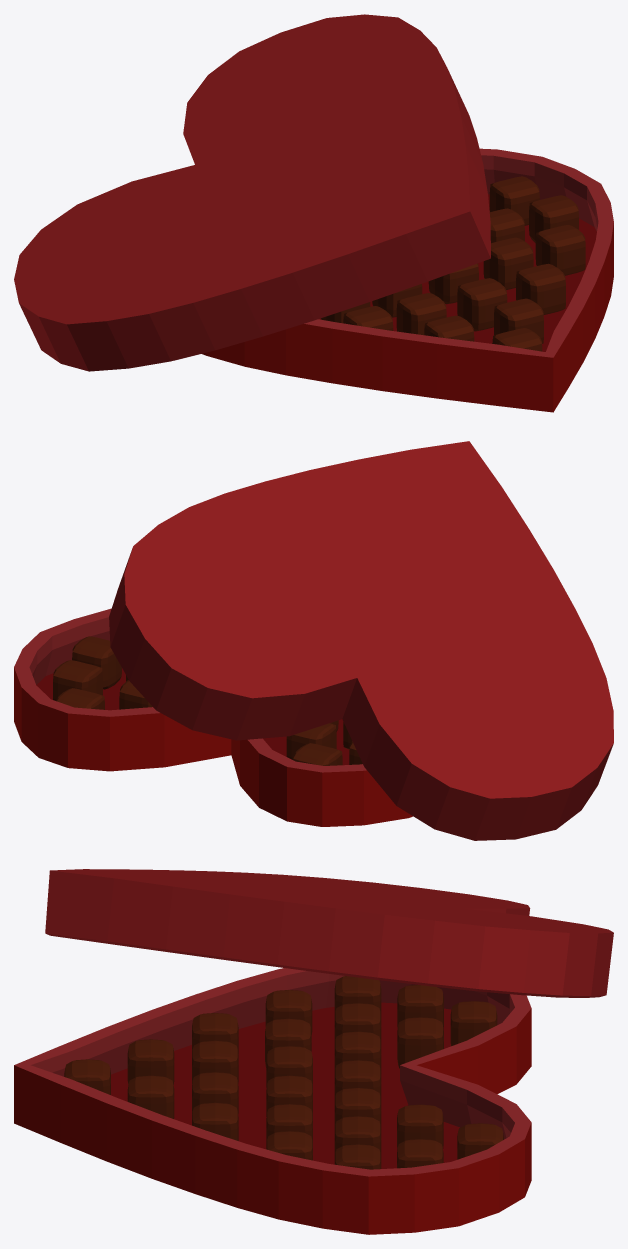
File: HeartBoxOpen.fbx
3 renders of one model, top to bottom at view 1: azimuth 30°, elevation 25°; view 2: azimuth 150°, elevation 25°; view 3: azimuth 270°, elevation 25°, orthographic. The views are drawn at different scales.
Visible parts, largest first — view 1: OpenChcolateBox; view 2: OpenChcolateBox; view 3: OpenChcolateBox.
Boxes of the visible parts, bbox=[...] form: OpenChcolateBox: bbox=[14, 14, 613, 412]; OpenChcolateBox: bbox=[14, 441, 613, 840]; OpenChcolateBox: bbox=[14, 869, 613, 1234].
Bounding box in the file's own units: 293 × 112 × 255.
